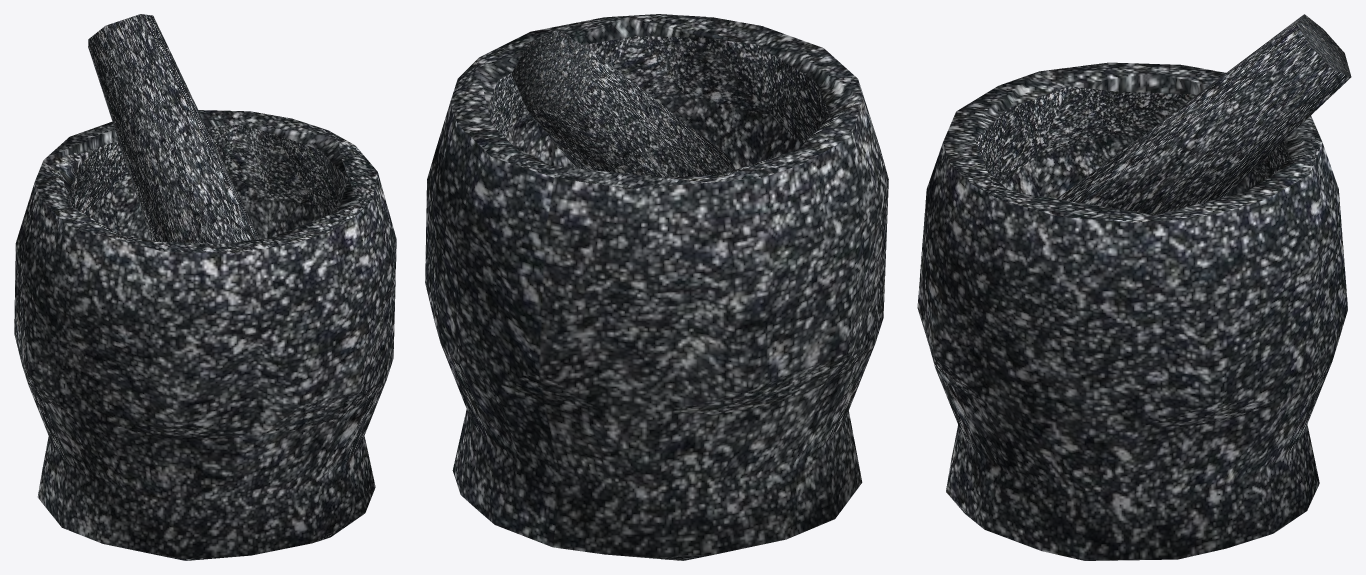
File: MortarAndPestle.fbx
The picture shows the model from 3 angles, left to right: view 1: azimuth 30°, elevation 25°; view 2: azimuth 150°, elevation 25°; view 3: azimuth 270°, elevation 25°; orthographic projection. The views are drawn at different scales.
Parts seen in each view (by area): view 1: MortarAndPestle; view 2: MortarAndPestle; view 3: MortarAndPestle.
Boxes of the visible parts, box(x1,y1,x2,y2) form: MortarAndPestle: box(14, 14, 396, 560); MortarAndPestle: box(425, 14, 888, 560); MortarAndPestle: box(917, 14, 1351, 560).
Bounding box in the file's own units: 13.73 × 16.75 × 14.06.
Materials: 1 (1 with a texture image).
